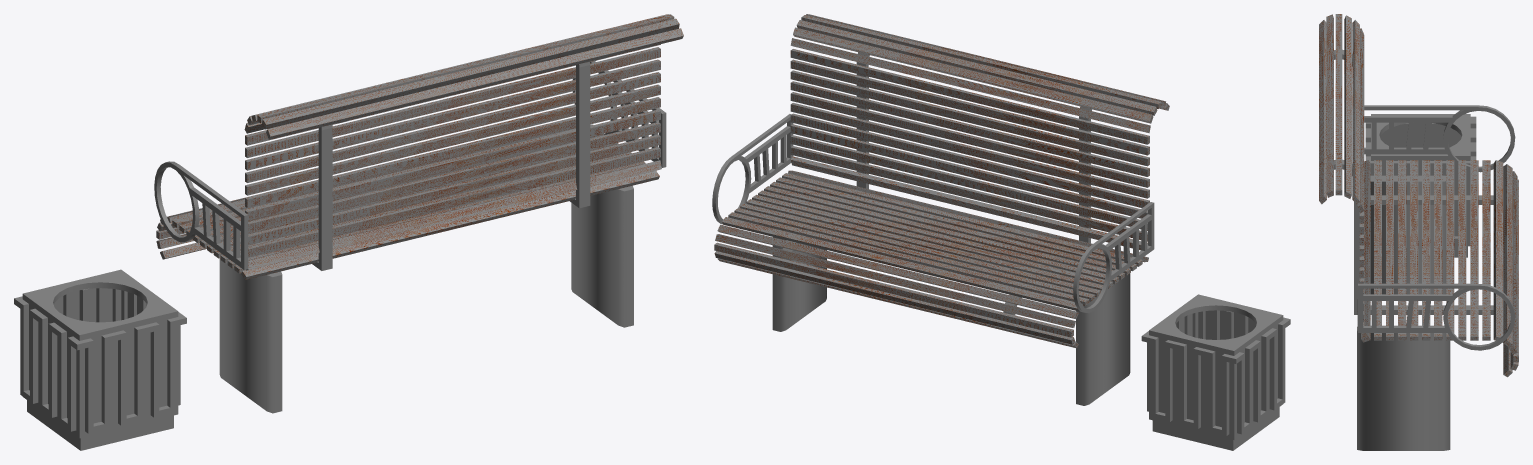
3 views of the same model, side by side, from view 1: azimuth 30°, elevation 25°; view 2: azimuth 150°, elevation 25°; view 3: azimuth 270°, elevation 25° (orthographic). The views are drawn at different scales.
Parts seen in each view (by area): view 1: mesh2_mesh2-geometry, mesh1_mesh1-geometry, mesh21_mesh21-geometry, mesh7_mesh7-geometry, mesh16_mesh16-geometry, mesh11_mesh11-geometry, mesh3_mesh3-geometry; view 2: mesh2_mesh2-geometry, mesh1_mesh1-geometry, mesh21_mesh21-geometry, mesh7_mesh7-geometry, mesh3_mesh3-geometry; view 3: mesh2_mesh2-geometry, mesh21_mesh21-geometry, mesh1_mesh1-geometry, mesh3_mesh3-geometry, mesh7_mesh7-geometry, mesh16_mesh16-geometry, mesh11_mesh11-geometry.
Part boxes in pixels (bbox=[...]): mesh2_mesh2-geometry: bbox=[156, 14, 683, 279]; mesh1_mesh1-geometry: bbox=[14, 269, 186, 450]; mesh21_mesh21-geometry: bbox=[219, 185, 633, 413]; mesh7_mesh7-geometry: bbox=[154, 161, 248, 269]; mesh16_mesh16-geometry: bbox=[569, 57, 607, 208]; mesh11_mesh11-geometry: bbox=[312, 120, 349, 270]; mesh3_mesh3-geometry: bbox=[572, 61, 666, 167]; mesh2_mesh2-geometry: bbox=[714, 14, 1169, 348]; mesh1_mesh1-geometry: bbox=[1141, 294, 1290, 450]; mesh21_mesh21-geometry: bbox=[772, 237, 1130, 405]; mesh7_mesh7-geometry: bbox=[1073, 202, 1154, 313]; mesh3_mesh3-geometry: bbox=[712, 114, 793, 224]; mesh2_mesh2-geometry: bbox=[1319, 14, 1518, 377]; mesh21_mesh21-geometry: bbox=[1357, 175, 1450, 450]; mesh1_mesh1-geometry: bbox=[1365, 114, 1476, 257]; mesh3_mesh3-geometry: bbox=[1358, 283, 1515, 350]; mesh7_mesh7-geometry: bbox=[1364, 105, 1515, 172]; mesh16_mesh16-geometry: bbox=[1334, 159, 1493, 314]; mesh11_mesh11-geometry: bbox=[1334, 49, 1493, 204].
Bounding box in the file's own units: 0.8538 × 0.4331 × 0.2889.
